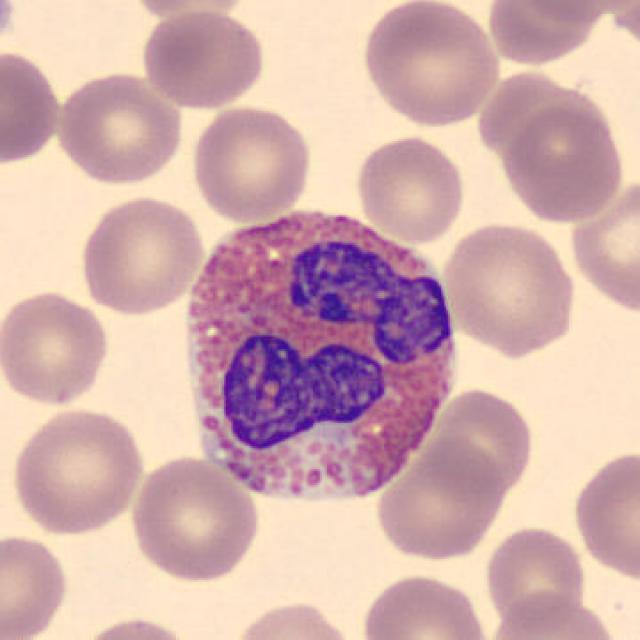Eosinophil: (166, 189, 470, 520)
RBC: (439, 219, 580, 358), (357, 0, 503, 129), (9, 403, 147, 538), (126, 453, 263, 584), (372, 432, 508, 562), (76, 192, 206, 318), (500, 98, 628, 225), (52, 69, 186, 187), (188, 102, 314, 224), (138, 7, 268, 113), (0, 286, 112, 409), (352, 132, 469, 245), (428, 382, 537, 500), (482, 522, 588, 635), (565, 171, 640, 317), (569, 444, 638, 584), (358, 571, 492, 640), (482, 0, 608, 67), (0, 530, 73, 640), (0, 44, 64, 168), (485, 590, 622, 640), (226, 596, 361, 640), (72, 613, 197, 640), (510, 0, 640, 25), (126, 0, 256, 18), (0, 0, 21, 61)
